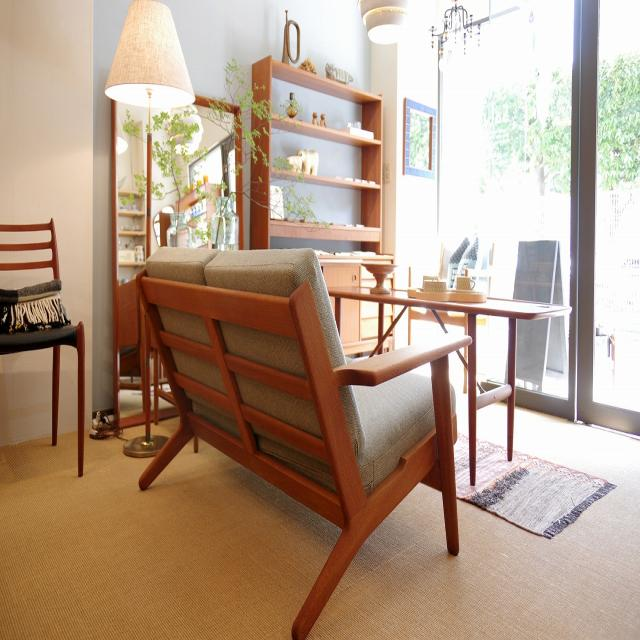natural shelf: (246, 56, 392, 245)
natural sofa: (142, 245, 474, 640)
